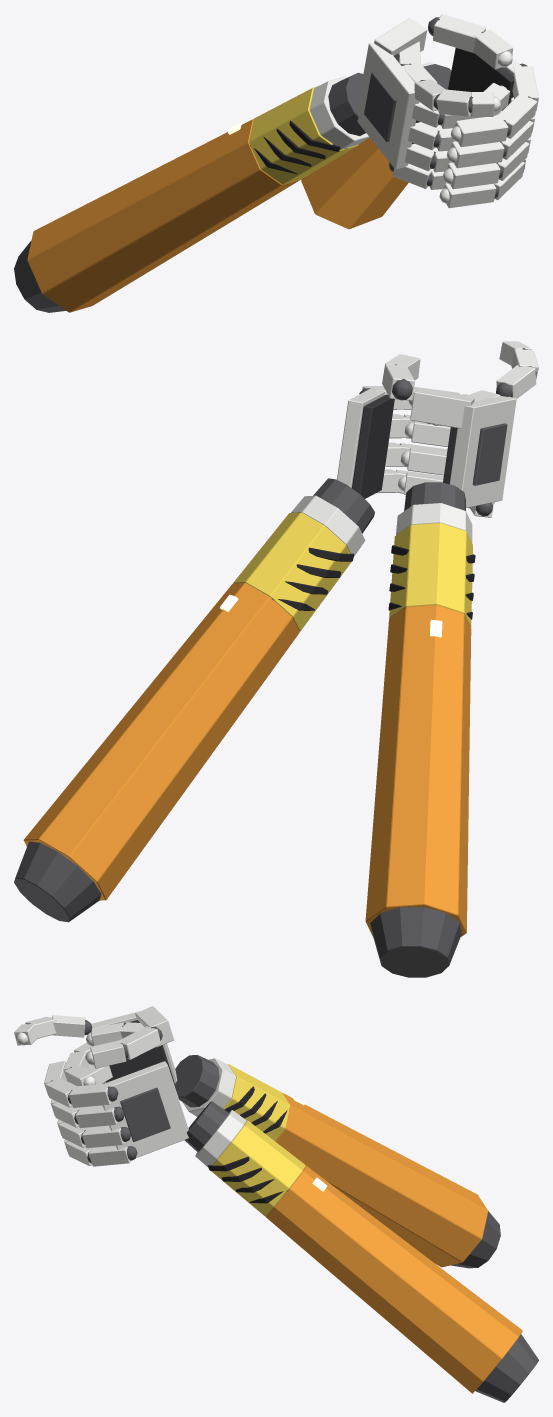
The model's file is arms.fbx.
The picture shows the model from 3 angles, top to bottom: view 1: azimuth 30°, elevation 25°; view 2: azimuth 150°, elevation 25°; view 3: azimuth 270°, elevation 25°; orthographic projection. The views are drawn at different scales.
Parts seen in each view (by area): view 1: HandR, HandL; view 2: HandR, HandL; view 3: HandL, HandR.
Boxes of the visible parts, left/top/right/bottom form: HandR: left=14, top=14, right=513, bottom=312; HandL: left=301, top=41, right=538, bottom=229; HandR: left=365, top=341, right=538, bottom=977; HandL: left=14, top=386, right=500, bottom=922; HandL: left=44, top=1022, right=538, bottom=1402; HandR: left=14, top=1006, right=500, bottom=1268.
Size of the model in its own units: 0.2425 by 0.2317 by 0.339.
